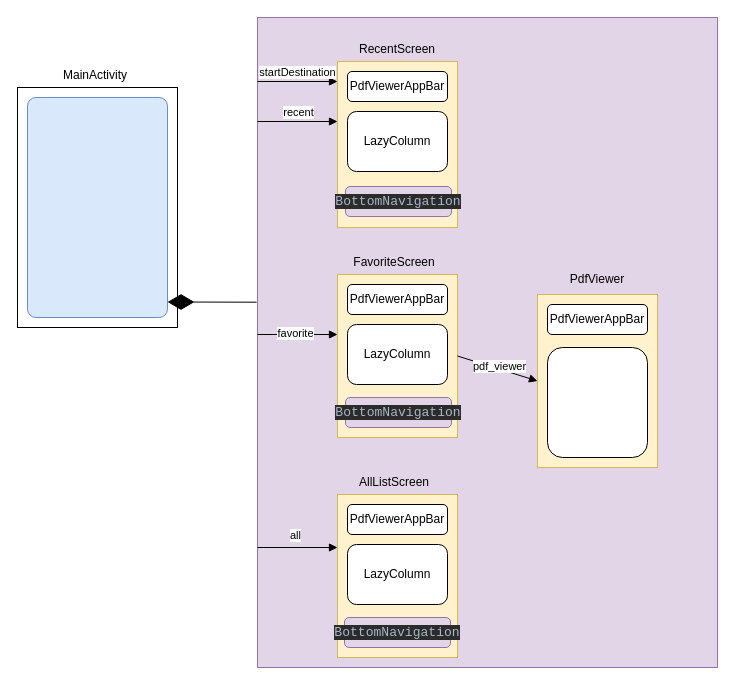
This 735x685 diagram has some shape labels left out. Here are the shapes that lost their labels. From the top down, the centre of each, then its label:
point (97, 207): NavHost
point (597, 402): HorizontalPager
